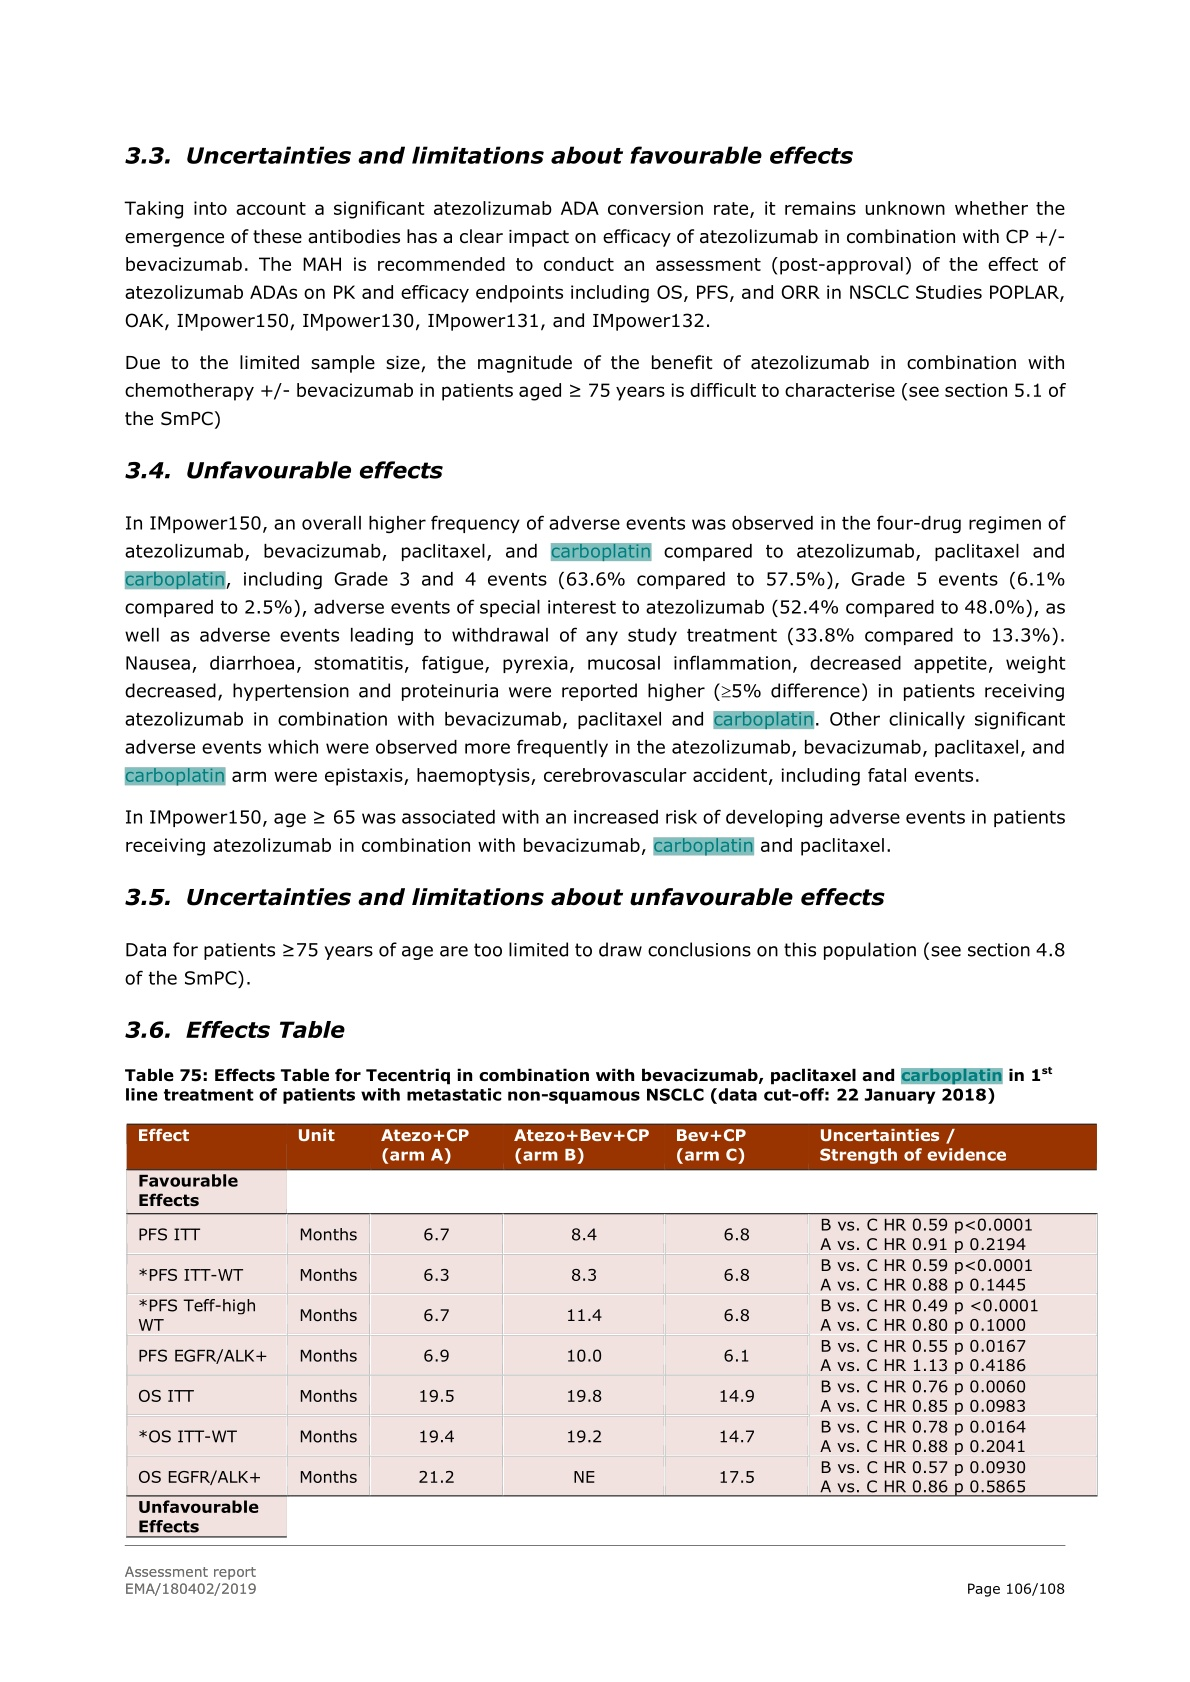partial_lined: (125, 1120, 1100, 1498)
